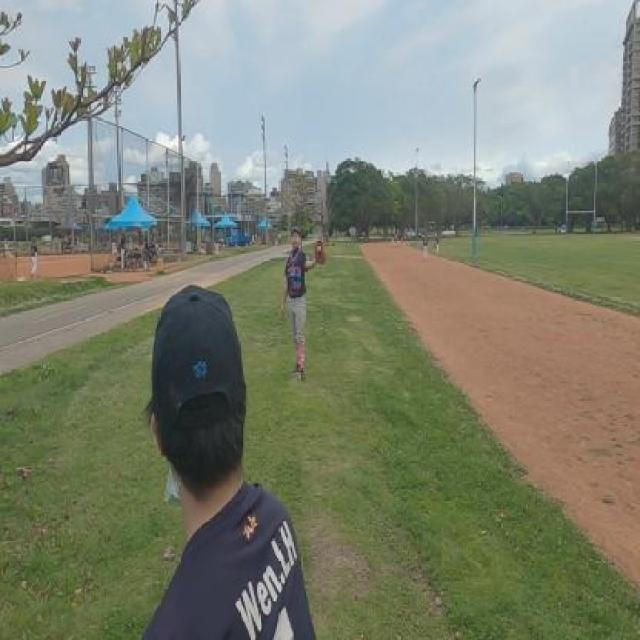ball: (317, 246, 321, 252)
